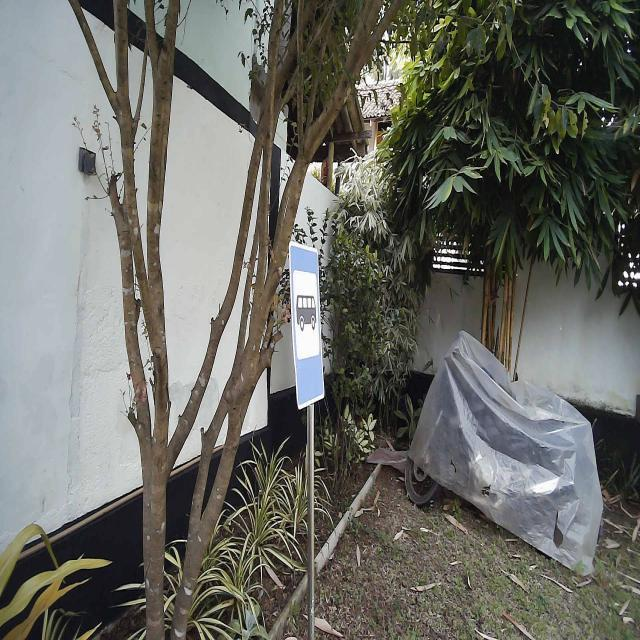bus_stop: (288, 242, 326, 412)
